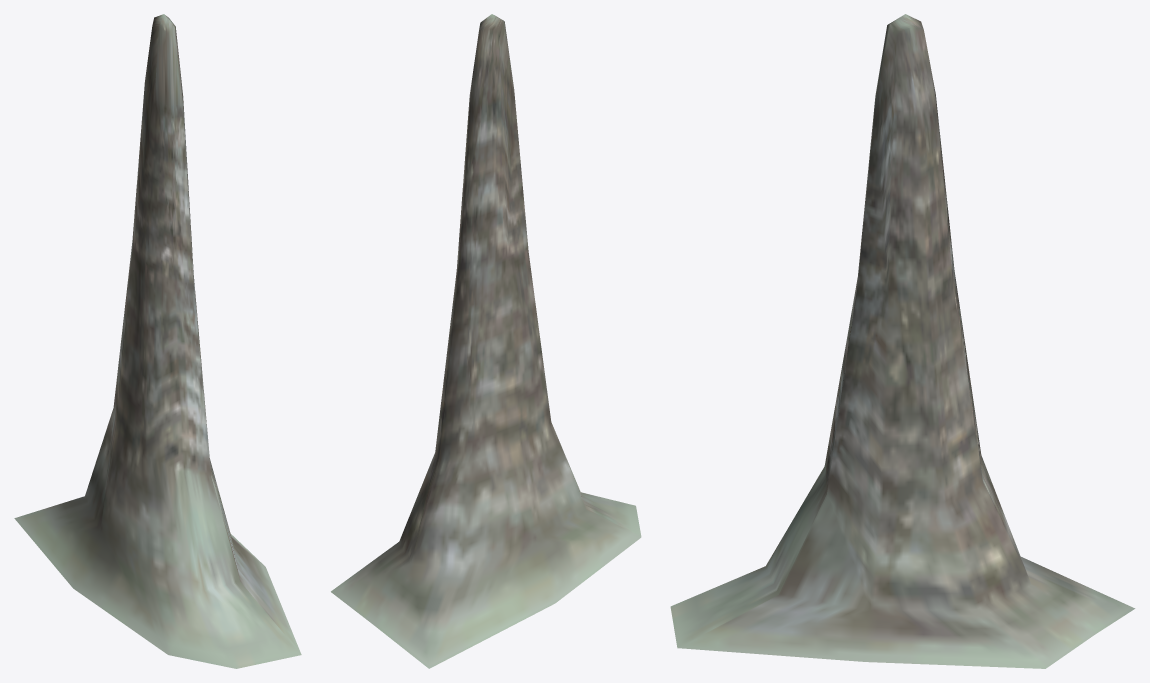
File: TROLLHOLE02_PS-MAINSTALAG02.fbx
3 views of the same model, side by side, from view 1: azimuth 30°, elevation 25°; view 2: azimuth 150°, elevation 25°; view 3: azimuth 270°, elevation 25° (orthographic). The views are drawn at different scales.
Visible parts, largest first — view 1: TROLLHOLE02_PS-MAINSTALAG02; view 2: TROLLHOLE02_PS-MAINSTALAG02; view 3: TROLLHOLE02_PS-MAINSTALAG02.
Part boxes in pixels (x1,y1,x2,y2): TROLLHOLE02_PS-MAINSTALAG02: [14, 14, 301, 668]; TROLLHOLE02_PS-MAINSTALAG02: [331, 14, 641, 668]; TROLLHOLE02_PS-MAINSTALAG02: [670, 14, 1135, 668].
Size of the model in its own units: 11035 by 34401 by 23484.
1 material, 1 textured.
